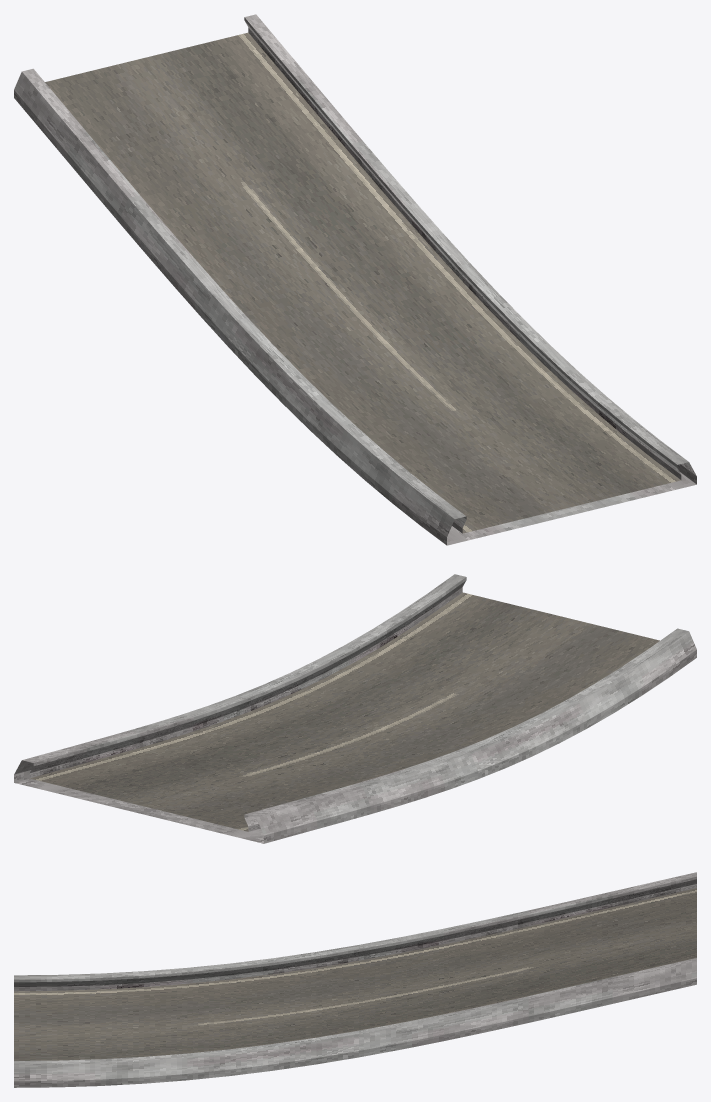
The model's file is road-Straight-Flat-BiSlopeUp-Up2-Center-Size3.glb.
3 views of the same model, one above another, from view 1: azimuth 30°, elevation 25°; view 2: azimuth 150°, elevation 25°; view 3: azimuth 270°, elevation 25° (orthographic). The views are drawn at different scales.
Parts seen in each view (by area): view 1: road-Straight-Flat-BiSlopeUp-Up2-Center-Size3; view 2: road-Straight-Flat-BiSlopeUp-Up2-Center-Size3; view 3: road-Straight-Flat-BiSlopeUp-Up2-Center-Size3.
Part boxes in pixels (x1,y1,x2,y2): road-Straight-Flat-BiSlopeUp-Up2-Center-Size3: [14, 14, 696, 545]; road-Straight-Flat-BiSlopeUp-Up2-Center-Size3: [14, 574, 696, 843]; road-Straight-Flat-BiSlopeUp-Up2-Center-Size3: [14, 872, 696, 1087].
Bounding box in the file's own units: 1 × 0.5938 × 3.
Materials: 2 (2 with a texture image).
